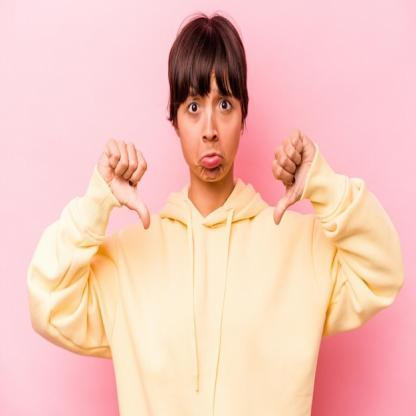thumb_down: (96, 132, 155, 231), (267, 124, 316, 230)
